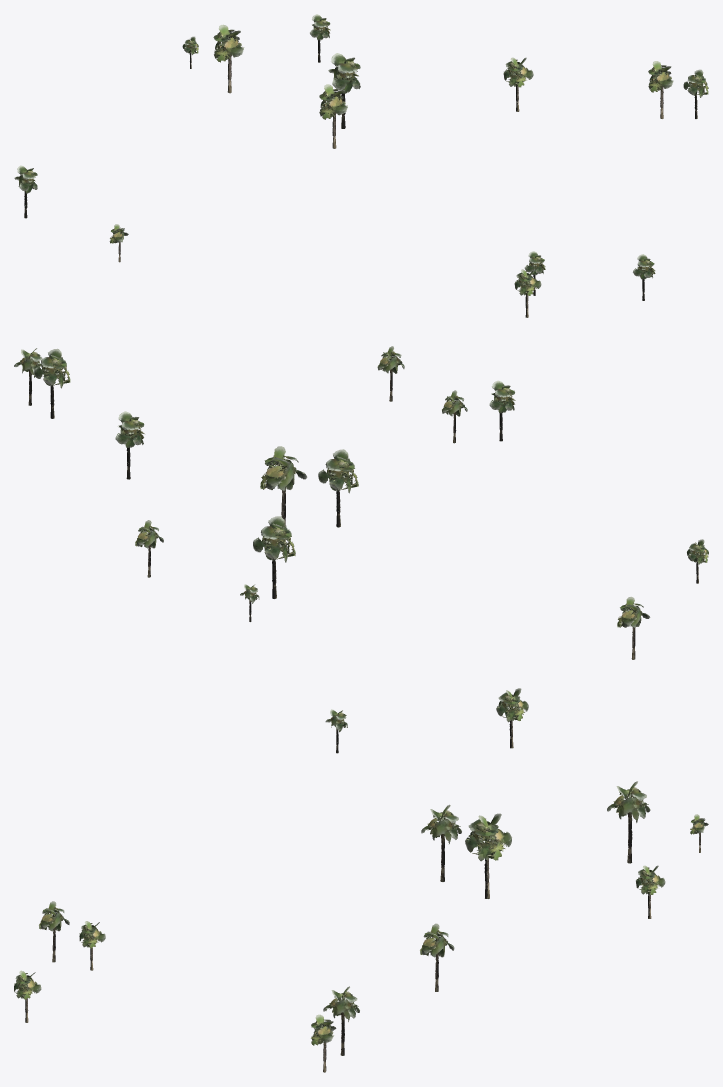
The model's file is Palmera04.glb.
The picture shows the model from 3 angles, top to bottom: view 1: azimuth 30°, elevation 25°; view 2: azimuth 150°, elevation 25°; view 3: azimuth 270°, elevation 25°; orthographic projection. The views are drawn at different scales.
Parts seen in each view (by area): view 1: temp_mesh.ply.842; view 2: temp_mesh.ply.842; view 3: temp_mesh.ply.842.
Part boxes in pixels (left/top/right/bottom): temp_mesh.ply.842: left=14, top=14, right=708, bottom=317; temp_mesh.ply.842: left=14, top=346, right=708, bottom=659; temp_mesh.ply.842: left=14, top=688, right=708, bottom=1072.
Size of the model in its own units: 106 by 20.93 by 88.65.
1 material, 1 textured.
